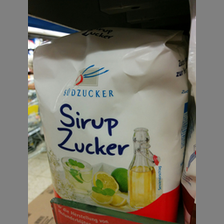sugar: (33, 26, 189, 224)
